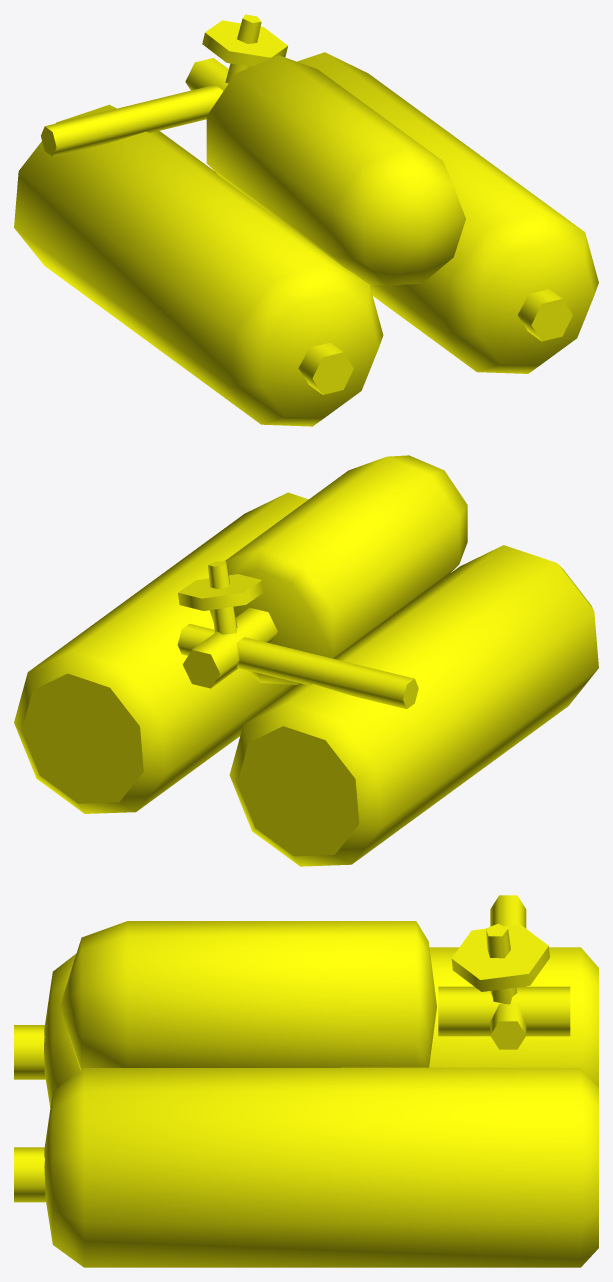
File: backpack_flamethrower.glb
3 renders of one model, top to bottom at view 1: azimuth 30°, elevation 25°; view 2: azimuth 150°, elevation 25°; view 3: azimuth 270°, elevation 25°, orthographic. The views are drawn at different scales.
Parts seen in each view (by area): view 1: backpack_flamethrower; view 2: backpack_flamethrower; view 3: backpack_flamethrower.
Part boxes in pixels (x1,y1,x2,y2): backpack_flamethrower: [14, 14, 598, 426]; backpack_flamethrower: [14, 455, 598, 866]; backpack_flamethrower: [14, 895, 598, 1267].
Bounding box in the file's own units: 0.7609 × 0.4915 × 0.9133.
Materials: 1 (1 with a texture image).
